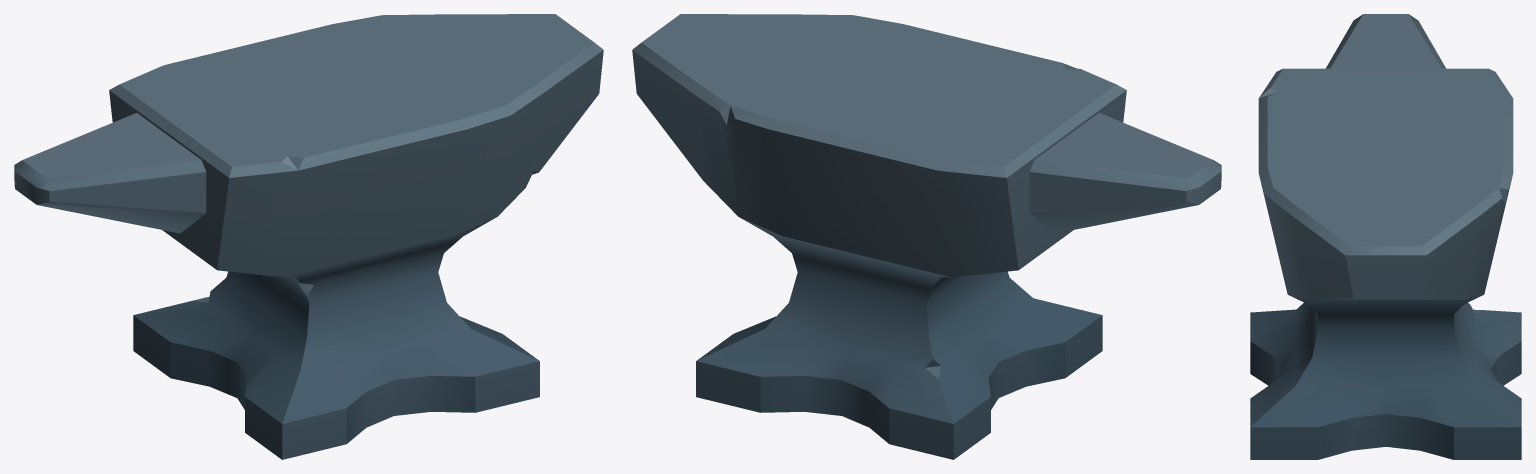
Rendered from prop_anvil.glb.
3 renders of one model, left to right at view 1: azimuth 30°, elevation 25°; view 2: azimuth 150°, elevation 25°; view 3: azimuth 270°, elevation 25°, orthographic. The views are drawn at different scales.
Visible parts, largest first — view 1: anvil; view 2: anvil; view 3: anvil.
Part boxes in pixels (x1,y1,x2,y2): anvil: [14, 14, 603, 459]; anvil: [632, 14, 1221, 459]; anvil: [1250, 14, 1521, 459].
Bounding box in the file's own units: 1.62 × 0.8 × 0.75.
1 material, 1 textured.
